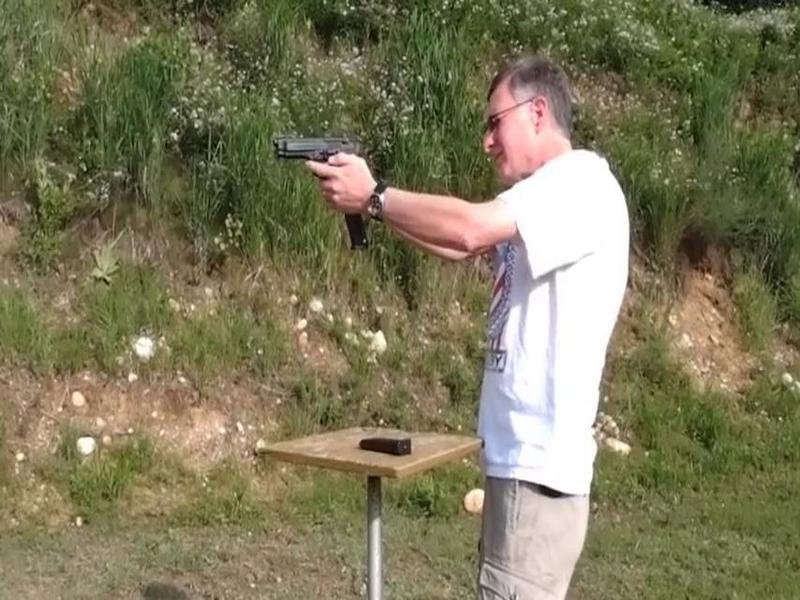Pistola: (264, 113, 382, 212)
